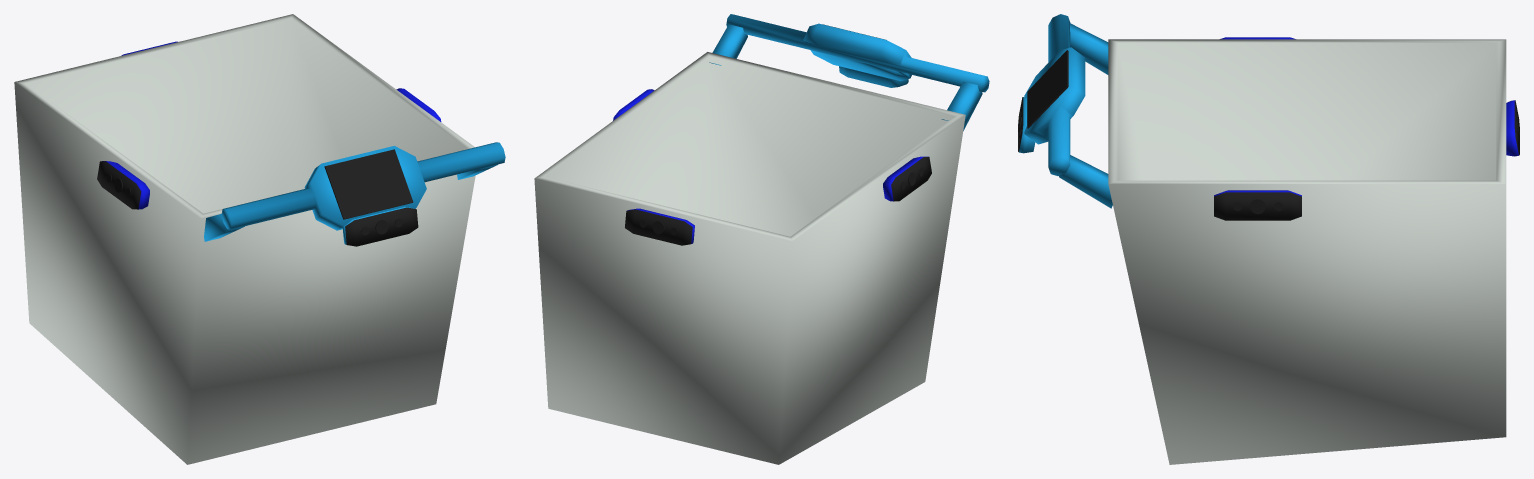
Rendered from shopping_cart_basket.dae.
The picture shows the model from 3 angles, left to right: view 1: azimuth 30°, elevation 25°; view 2: azimuth 150°, elevation 25°; view 3: azimuth 270°, elevation 25°; orthographic projection. The views are drawn at different scales.
Visible parts, largest first — view 1: basket, screen, camera-back, camera-left; view 2: basket, camera-front, camera-left, camera-back; view 3: basket, camera-right, screen, camera-front, camera-back.
Boxes of the visible parts, box(x1,y1,x2,y2) form: basket: box(14, 14, 505, 464); screen: box(324, 149, 413, 219); camera-back: box(342, 206, 418, 246); camera-left: box(97, 161, 149, 209); basket: box(534, 14, 989, 464); camera-front: box(625, 208, 694, 245); camera-left: box(883, 156, 931, 201); camera-back: box(839, 66, 908, 87); basket: box(1024, 14, 1506, 464); camera-right: box(1214, 190, 1301, 220); screen: box(1027, 50, 1068, 128); camera-front: box(1506, 100, 1519, 156); camera-back: box(1018, 97, 1035, 153).
Size of the model in its own units: 0.6156 by 0.8196 by 0.6022.
